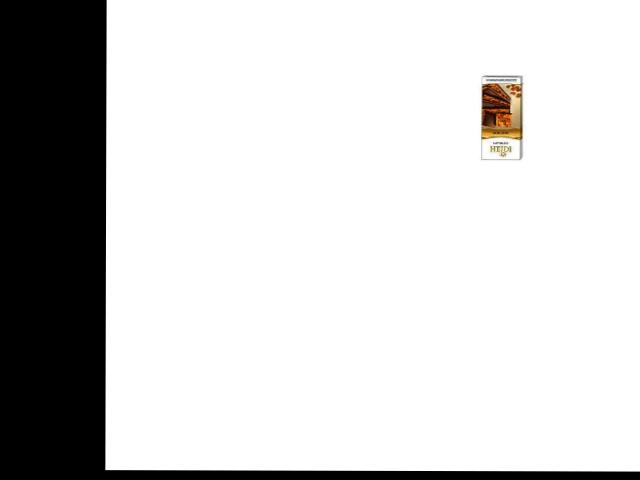chocolate: (473, 72, 538, 164)
